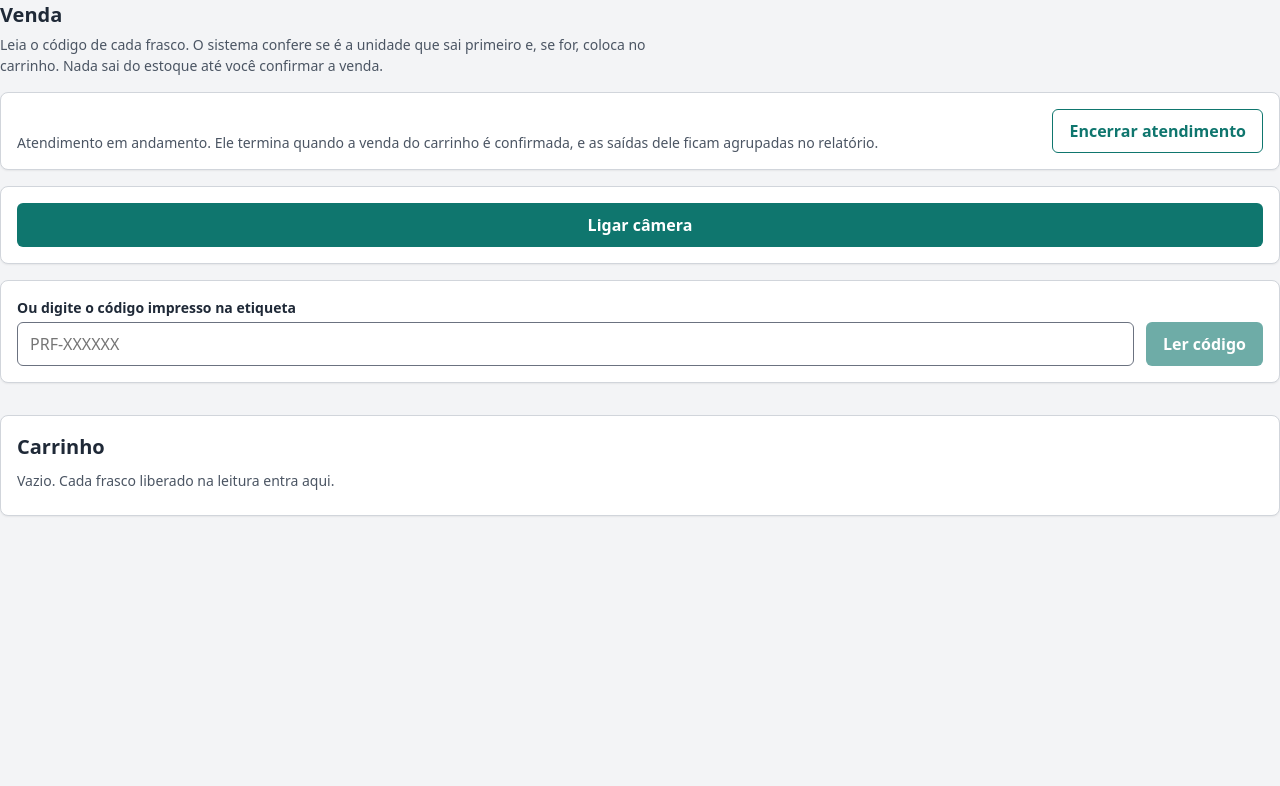
Test case: TelaVenda (RF05, RF06, RNF07, T34) › os quatro vereditos na leitura, cada um com seu layout › põe no carrinho a unidade que o servidor libera, sem vender
Type "PRF-AAAAAA" into the field labelled "Ou digite o código impresso na etiqueta" at (575, 344), box [17,322,1134,366]
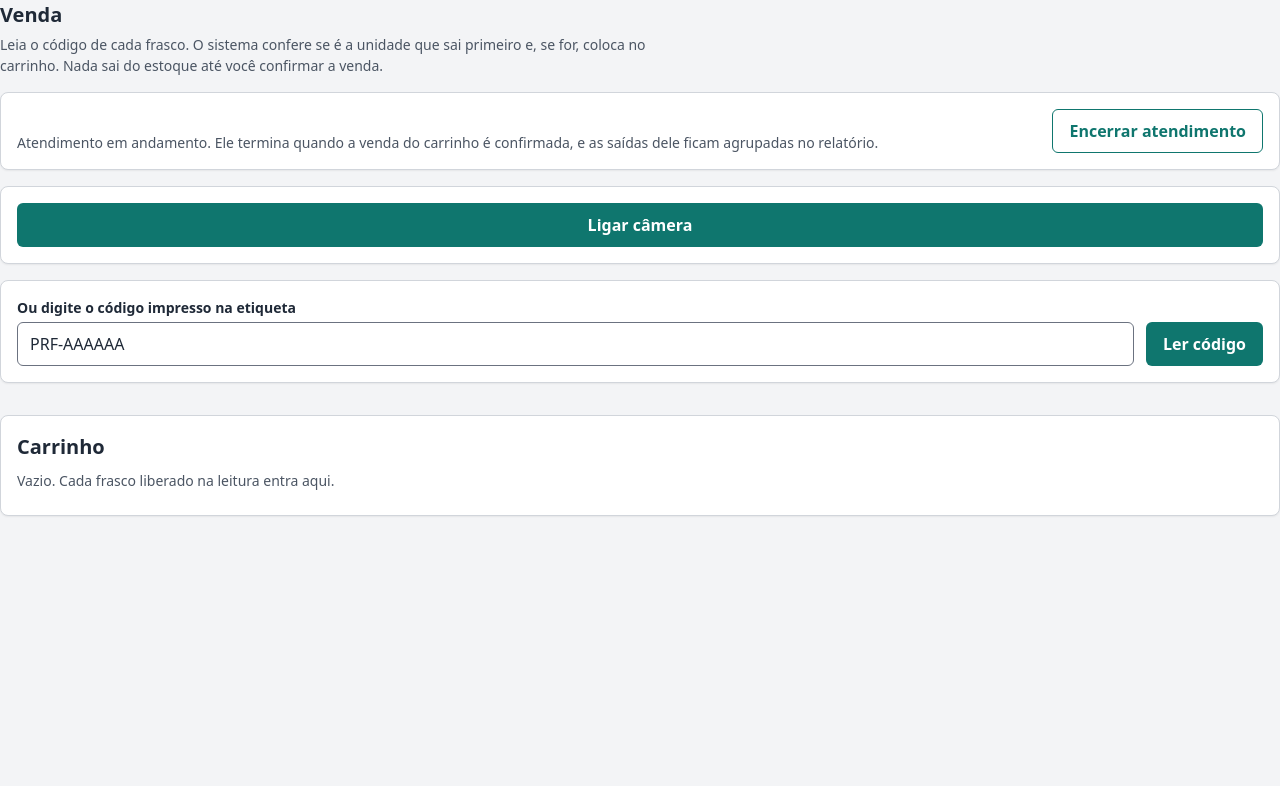
Click the button "Ler código" at (1204, 344), box [1146,322,1263,366]
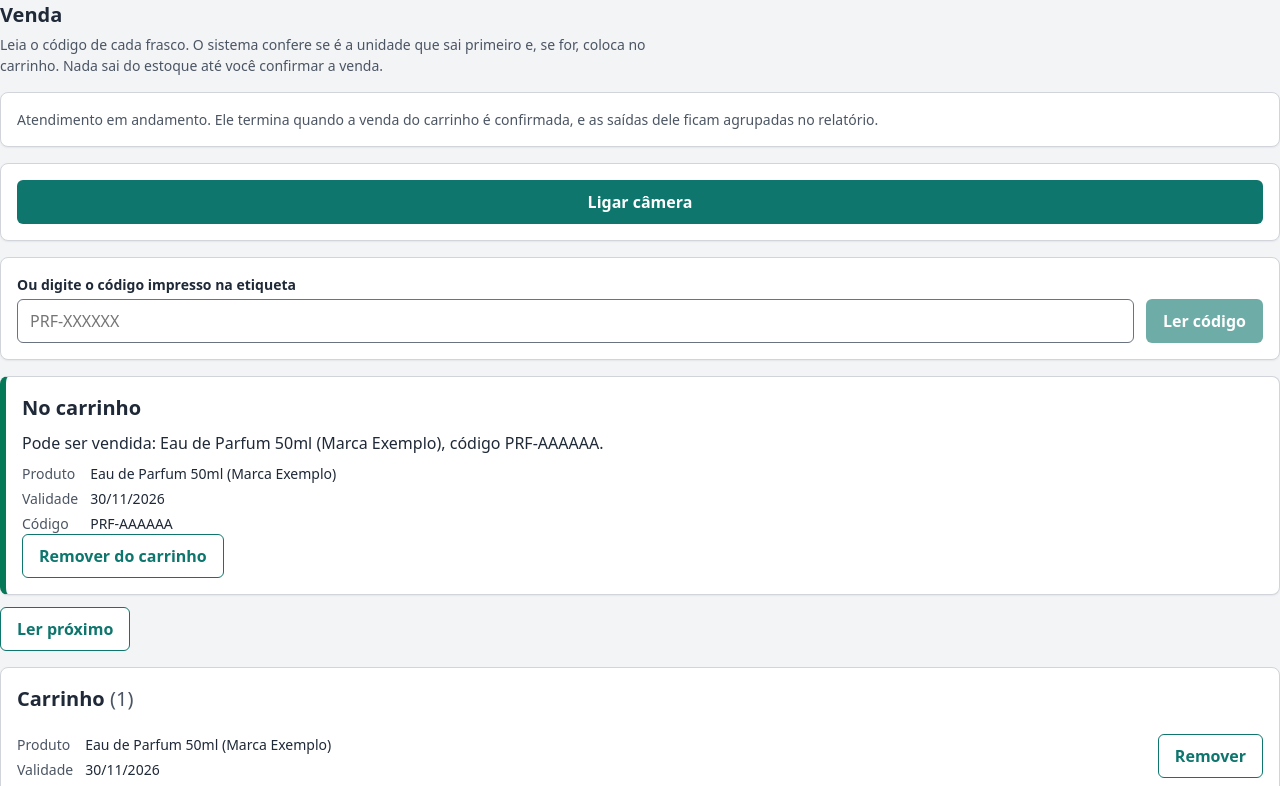
Check: the heading "No carrinho" is shown, box [22,394,141,421]
